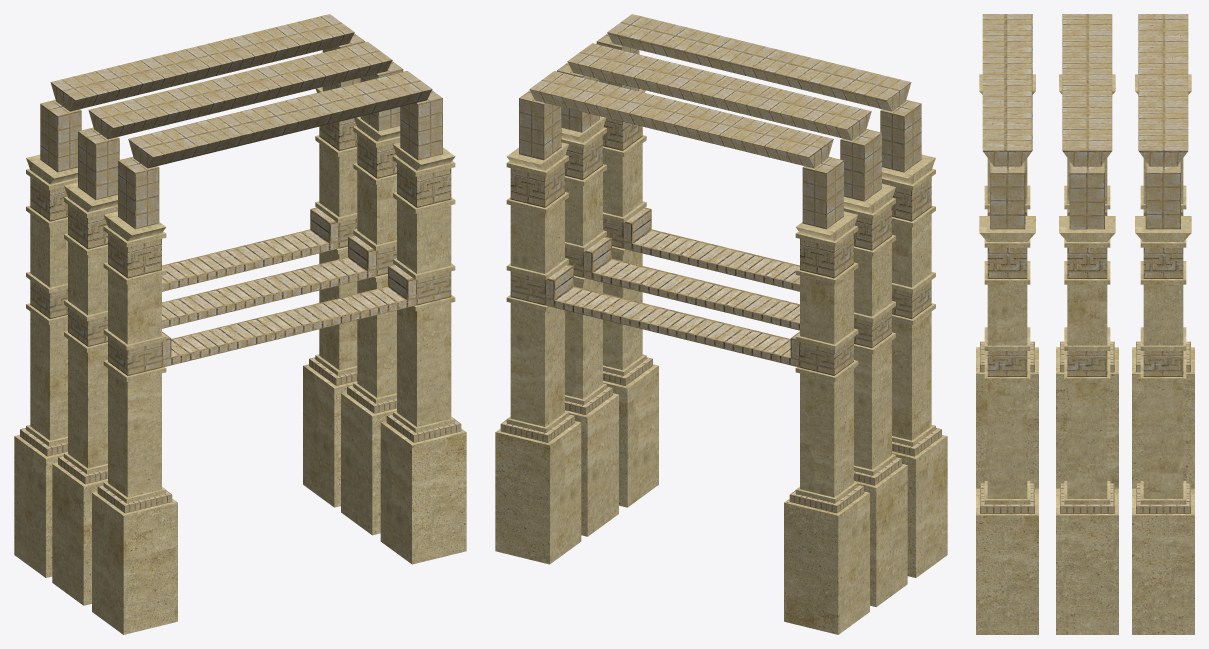
File: tutorial_structure_pillar_back.dae
3 views of the same model, side by side, from view 1: azimuth 30°, elevation 25°; view 2: azimuth 150°, elevation 25°; view 3: azimuth 270°, elevation 25° (orthographic).
Parts seen in each view (by area): view 1: tutorial_structure_pillar_back; view 2: tutorial_structure_pillar_back; view 3: tutorial_structure_pillar_back.
Part boxes in pixels (x1,y1,x2,y2): tutorial_structure_pillar_back: (14,14,466,634); tutorial_structure_pillar_back: (495,14,947,634); tutorial_structure_pillar_back: (976,14,1194,634).
Size of the model in its own units: 17.45 by 9.61 by 22.72.
Materials: 5 (5 with a texture image).
